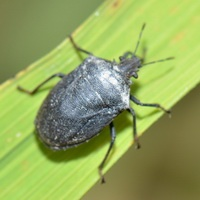insect: (17, 23, 174, 182)
